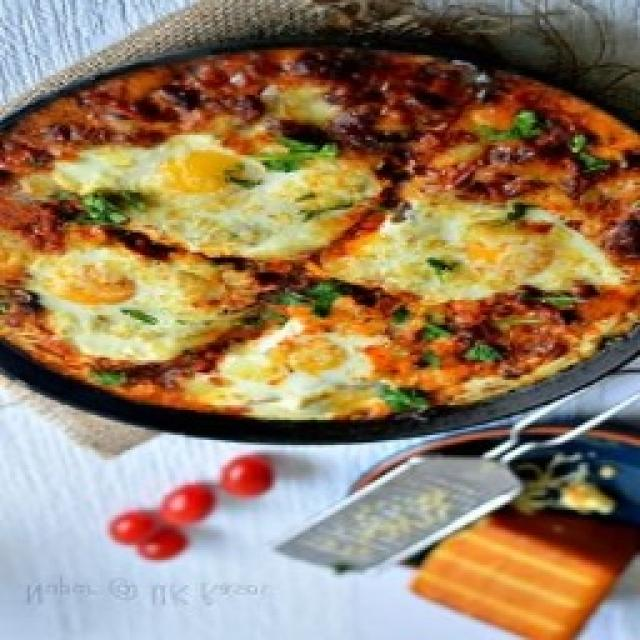Chakchouka: (0, 48, 640, 420)
